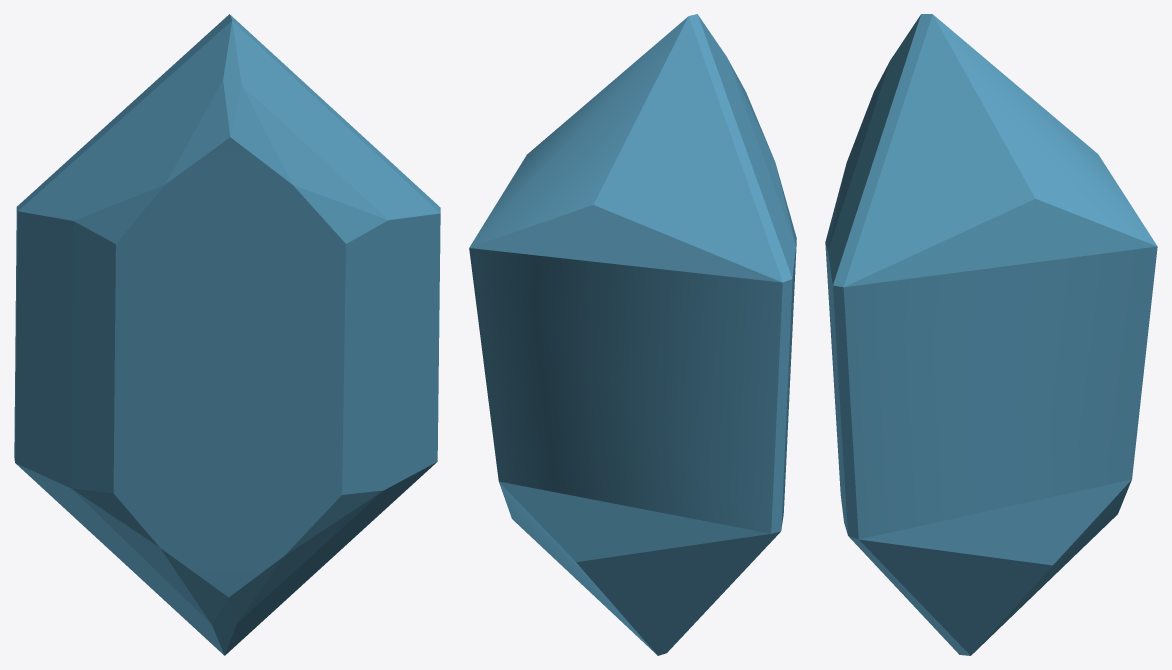
File: TL2_8shapes_Hex_Classic_Stone.001 2.glb
3 views of the same model, side by side, from view 1: azimuth 30°, elevation 25°; view 2: azimuth 150°, elevation 25°; view 3: azimuth 270°, elevation 25° (orthographic). The views are drawn at different scales.
Visible parts, largest first — view 1: TL2_8shapes_Hex_Classic_Stone.001; view 2: TL2_8shapes_Hex_Classic_Stone.001; view 3: TL2_8shapes_Hex_Classic_Stone.001.
Part boxes in pixels (x1,y1,x2,y2): TL2_8shapes_Hex_Classic_Stone.001: (14, 14, 440, 655); TL2_8shapes_Hex_Classic_Stone.001: (469, 14, 796, 655); TL2_8shapes_Hex_Classic_Stone.001: (825, 14, 1157, 655).
Bounding box in the file's own units: 0.3778 × 0.7166 × 0.3391.
